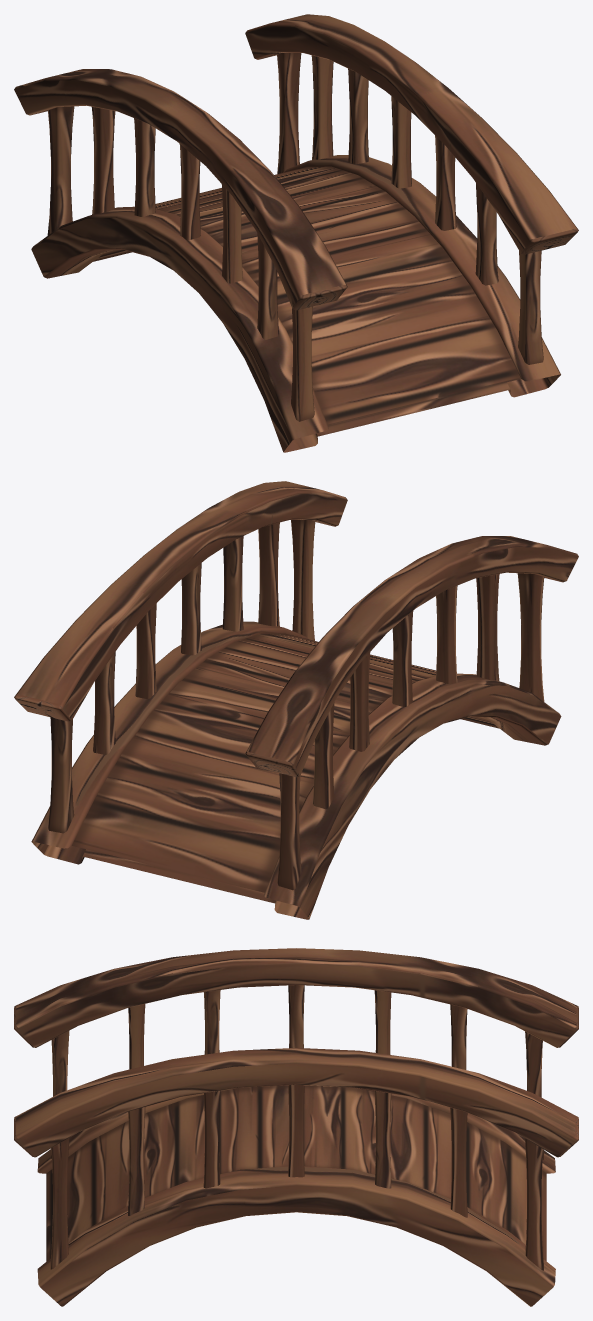
Rendered from river_bridge.FBX.
3 renders of one model, top to bottom at view 1: azimuth 30°, elevation 25°; view 2: azimuth 150°, elevation 25°; view 3: azimuth 270°, elevation 25°, orthographic.
Parts seen in each view (by area): view 1: river_bridge; view 2: river_bridge; view 3: river_bridge.
Boxes of the visible parts, <box> form: river_bridge: <box>14,14,578,452</box>; river_bridge: <box>14,481,578,919</box>; river_bridge: <box>14,948,578,1306</box>.
Size of the model in its own units: 278 by 234 by 496.
